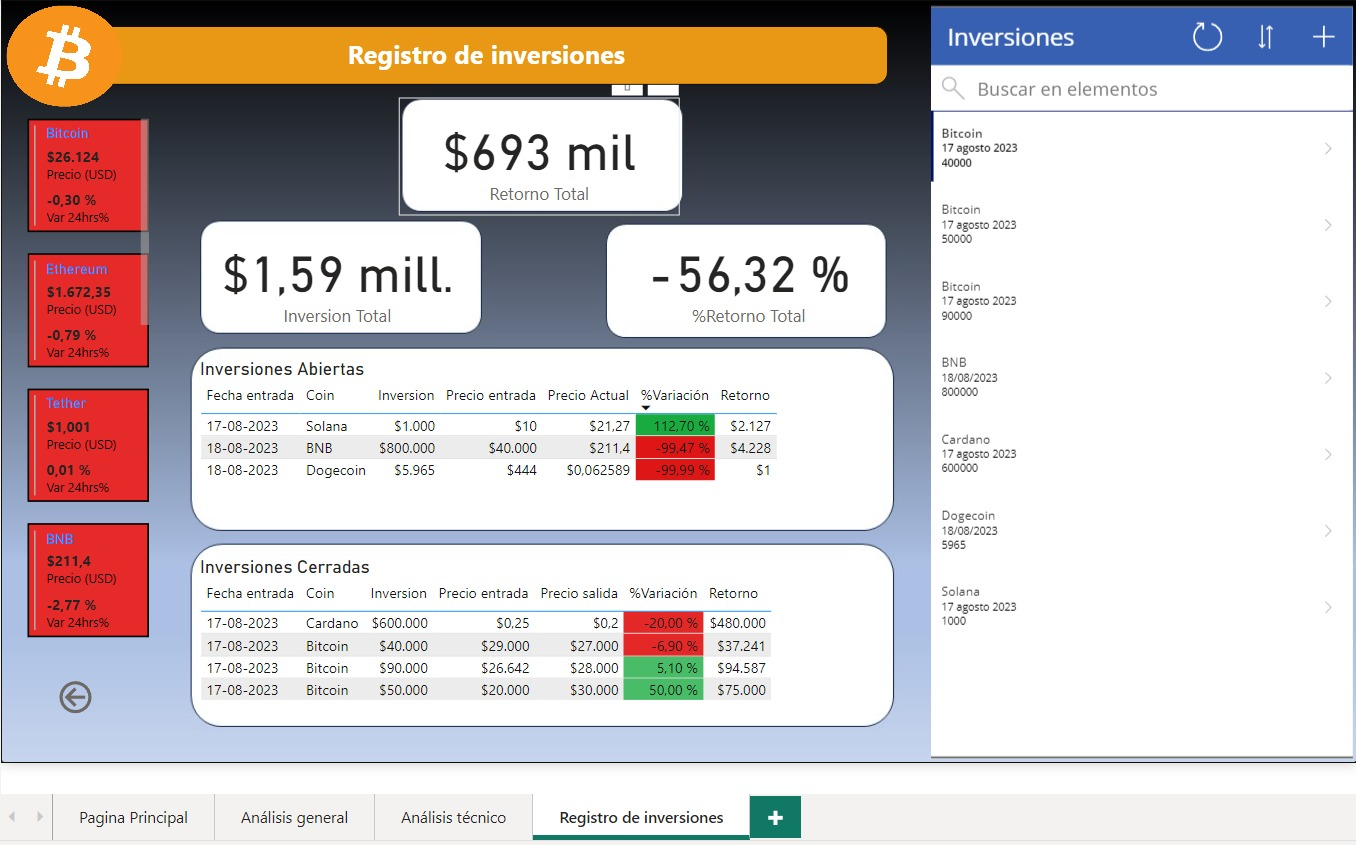

What the dashboard file says about the page in this screenshot:
{"tool":"powerbi","page":{"name":"Registro de inversiones  ","canvas":[1280,720],"ordinal":3},"visuals":[{"type":"tableEx","title":"Inversiones Abiertas","fields":{"Values":["Inversiones.Fecha","top_crypto_df.Coin","Inversiones.Inversion","Inversiones.Precio entrada","top_crypto_df.Current Price (USD)","Sum(Inversiones.Retorno Actual)","Sum(Inversiones.Dinero Actual)"]},"box":[183.3,338.9,653.7,159.2],"z":0},{"type":"PowerApps_PBI_CV_C29F1DCC_81F5_4973_94AD_0517D44CC06A","fields":{"table":["Inversiones.Criptomoneda"]},"box":[872,0,407.6,720],"z":1000},{"type":"tableEx","title":"Inversiones Cerradas","fields":{"Values":["Inversiones.Fecha","top_crypto_df.Coin","Inversiones.Inversion","Inversiones.Precio entrada","Inversiones.Precio salida","Inversiones.%RetornoFinal","Inversiones.Retorno"]},"box":[183.3,524.6,653.7,153.2],"z":2000},{"type":"card","fields":{"Values":["Inversiones.Retorno Total"]},"box":[375.1,91.7,265.3,112.2],"z":3000},{"type":"card","fields":{"Values":["Sum(Inversiones.Inversion)"]},"box":[183.3,214.7,268.9,96.5],"z":4000},{"type":"card","fields":{"Values":["Inversiones.ROI"]},"box":[574.1,214.7,262.9,96.5],"z":5000},{"type":"textbox","box":[90.5,24.1,746.5,55.5],"z":6000},{"type":"image","box":[0,0,119.4,106.1],"z":7000},{"type":"multiRowCard","fields":{"Values":["top_crypto_df.Coin","top_crypto_df.Current Price (USD)","top_crypto_df.Price Change 24h (%)"]},"box":[20,106.5,125.3,509.9],"z":8000},{"type":"actionButton","box":[50.1,637.7,40.1,40.1],"z":9000}]}

Visuals, with their boxes on the page's 1280x720 design canvas (x1, y1, x2, y2). These are canvas units, not pixel positions in the 1356x845 screenshot, which may show the page scaled, cropped or inside an application window:
"Inversiones Abiertas" tableEx: {"x1": 183, "y1": 339, "x2": 837, "y2": 498}
PowerApps_PBI_CV_C29F1DCC_81F5_4973_94AD_0517D44CC06A - Inversiones.Criptomoneda: {"x1": 872, "y1": 0, "x2": 1280, "y2": 720}
"Inversiones Cerradas" tableEx: {"x1": 183, "y1": 525, "x2": 837, "y2": 678}
card - Inversiones.Retorno Total: {"x1": 375, "y1": 92, "x2": 640, "y2": 204}
card - Sum(Inversiones.Inversion): {"x1": 183, "y1": 215, "x2": 452, "y2": 311}
card - Inversiones.ROI: {"x1": 574, "y1": 215, "x2": 837, "y2": 311}
textbox: {"x1": 90, "y1": 24, "x2": 837, "y2": 80}
image: {"x1": 0, "y1": 0, "x2": 119, "y2": 106}
multiRowCard - top_crypto_df.Coin x top_crypto_df.Current Price (USD): {"x1": 20, "y1": 106, "x2": 145, "y2": 616}
actionButton: {"x1": 50, "y1": 638, "x2": 90, "y2": 678}
